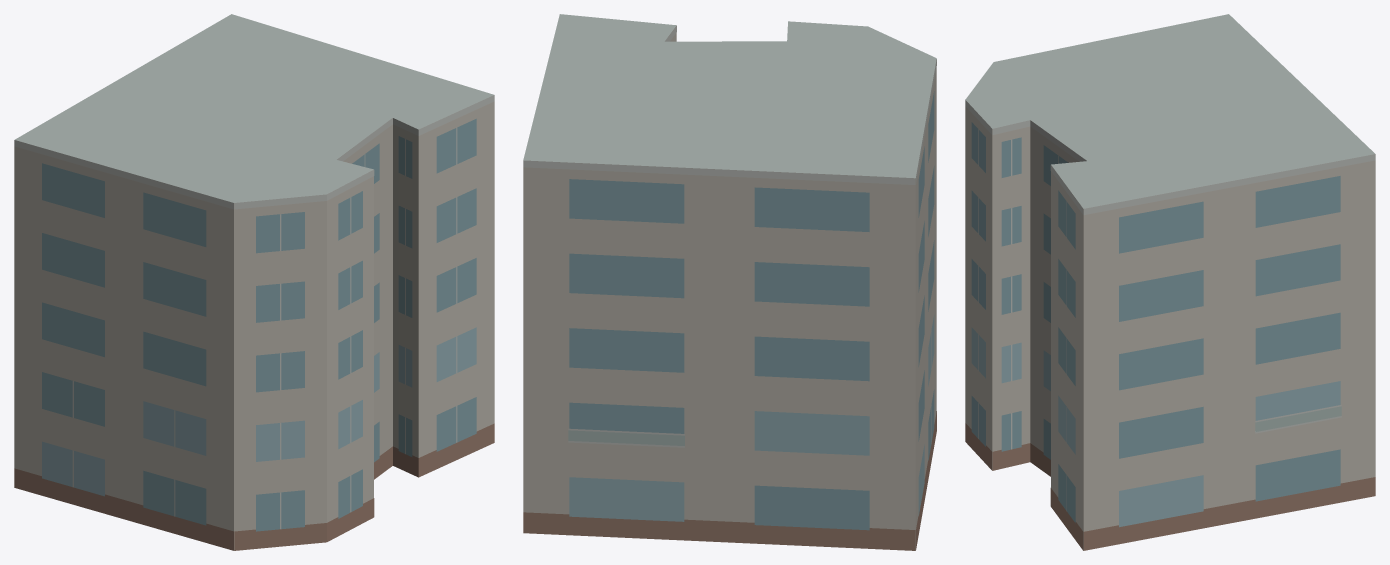
Rendered from survey-upis-32725078.glb.
3 views of the same model, side by side, from view 1: azimuth 30°, elevation 25°; view 2: azimuth 150°, elevation 25°; view 3: azimuth 270°, elevation 25° (orthographic). The views are drawn at different scales.
Parts seen in each view (by area): view 1: survey-upis-32725078.tmp; view 2: survey-upis-32725078.tmp; view 3: survey-upis-32725078.tmp.
Boxes of the visible parts, x1,y1,x2,y2 form: survey-upis-32725078.tmp: (14,14,494,550); survey-upis-32725078.tmp: (523,14,936,550); survey-upis-32725078.tmp: (965,14,1375,550).
Size of the model in its own units: 16.02 by 13.1 by 14.25.
